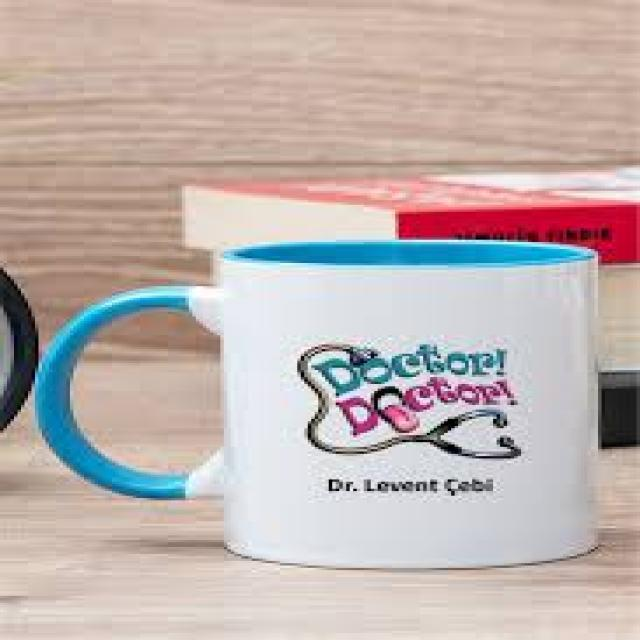taza: (36, 238, 599, 568)
